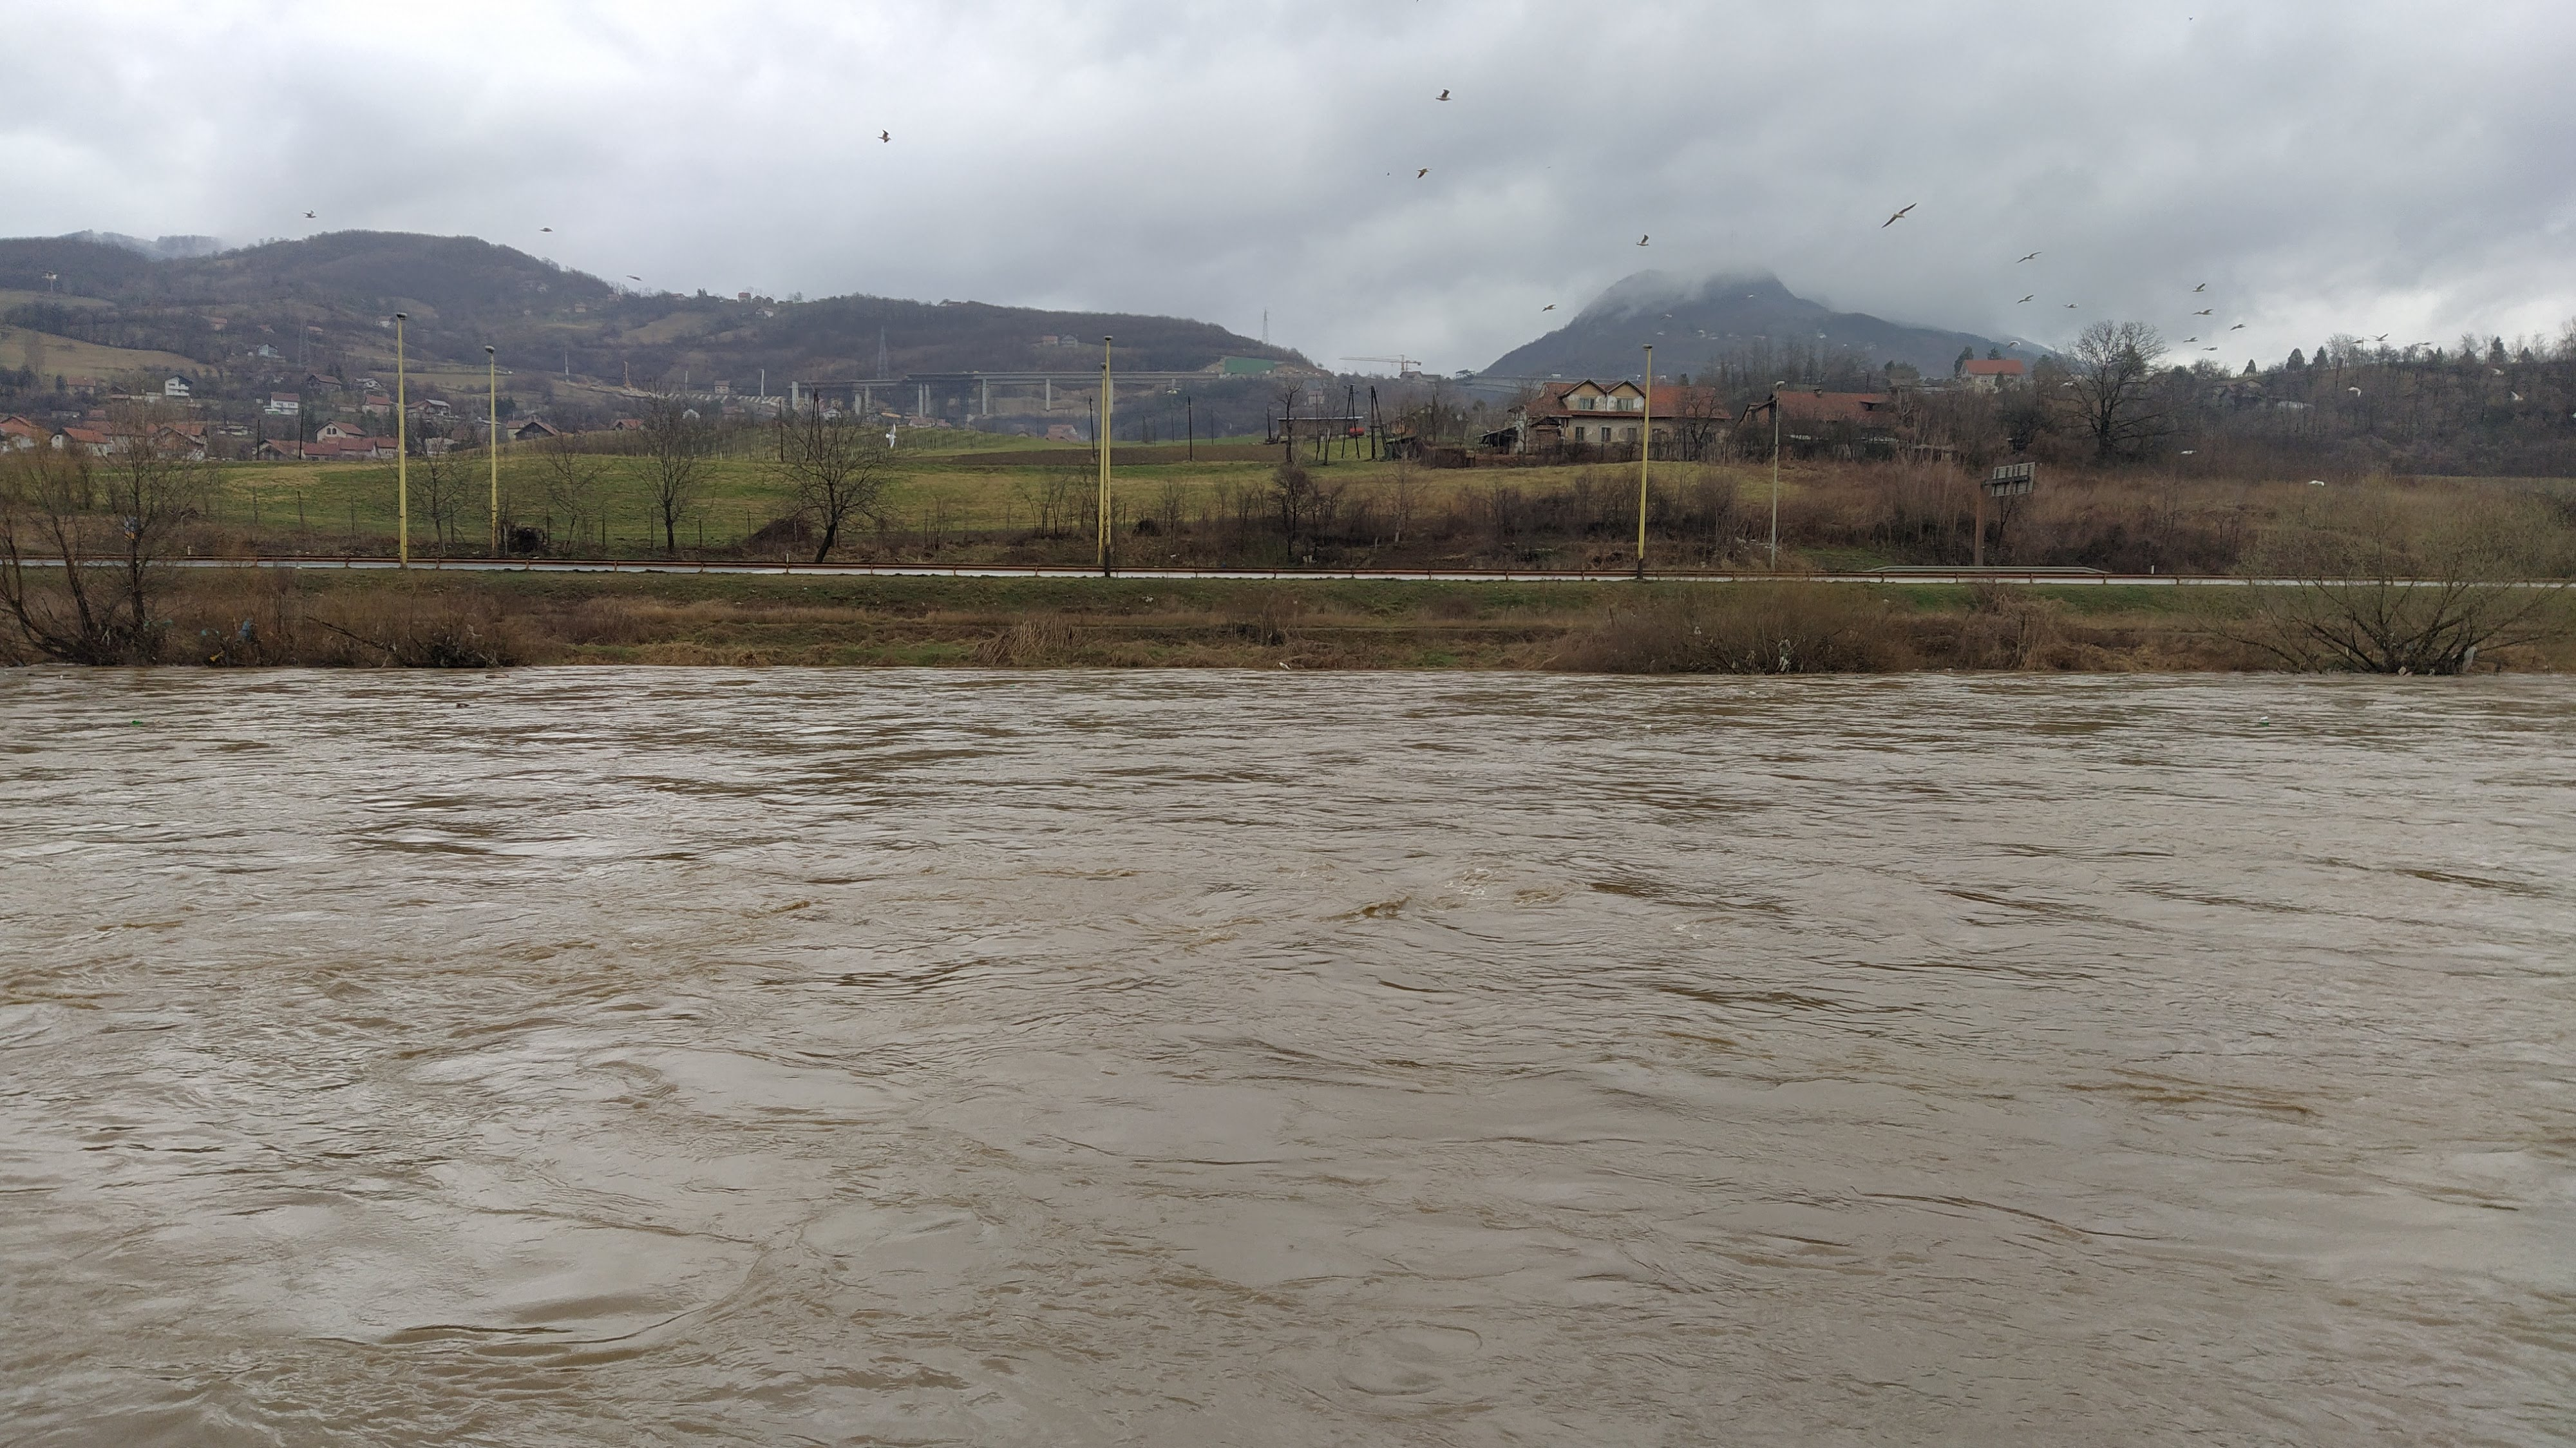Plastic Bottle: (1279, 662, 1290, 669), (2259, 720, 2268, 726), (456, 703, 467, 706), (1748, 690, 1755, 696), (133, 720, 142, 724), (1645, 724, 1651, 728), (2261, 715, 2266, 719)
